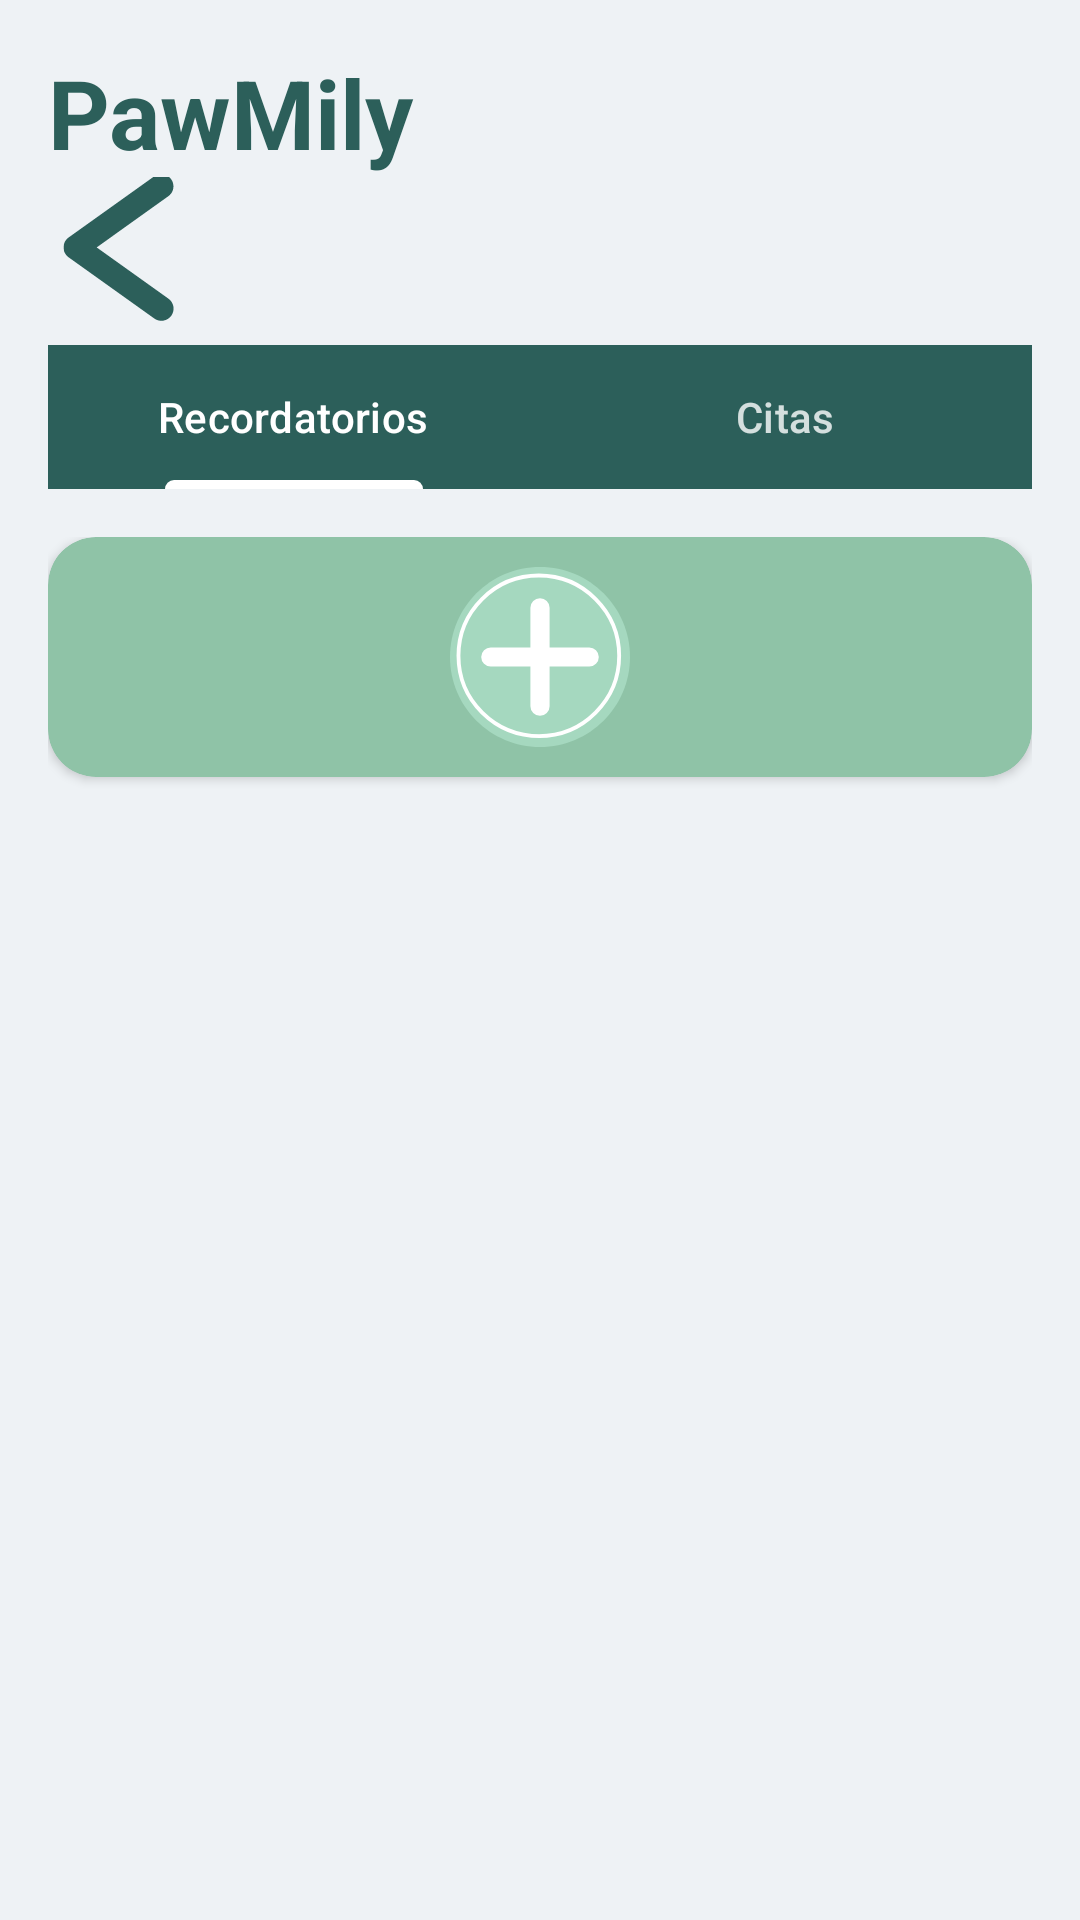

Point at icon controls on the screen. Image size 1080px×1920px, points as (x,y).
Nuevo recordatorio: (540,657)
Volver: (118,249)
